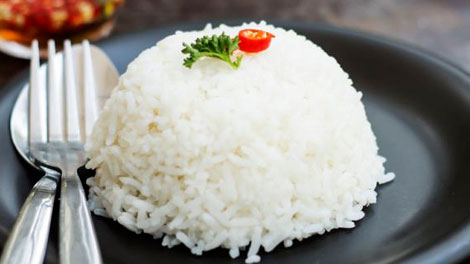Nasi Putih: (79, 4, 414, 264)
